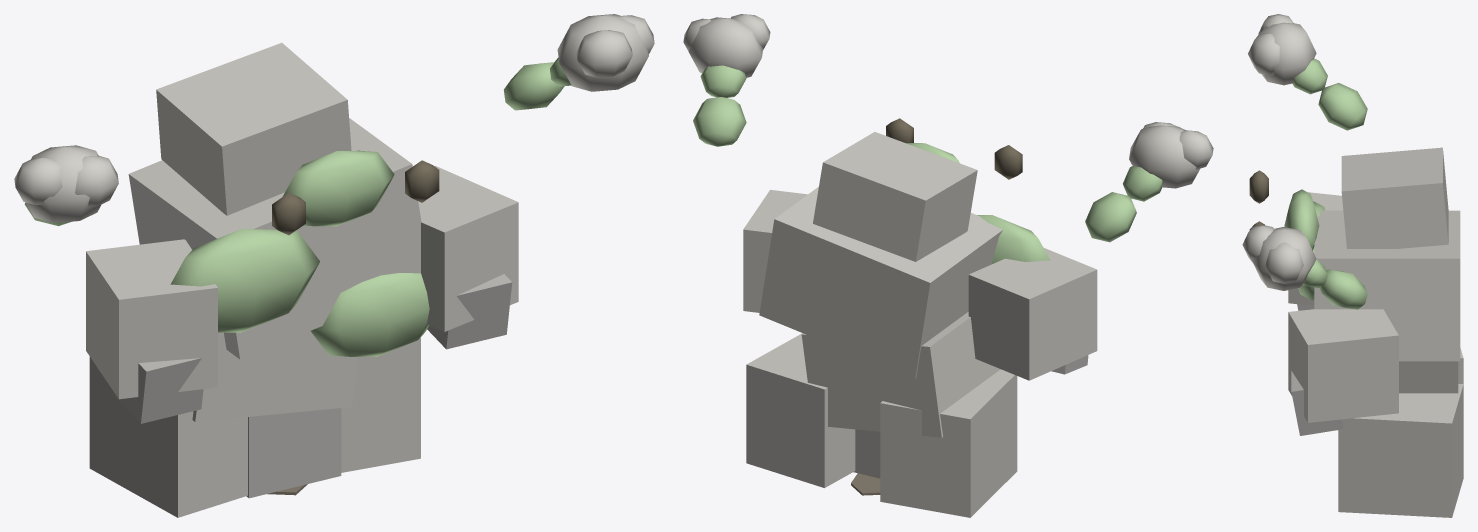
The model's file is stone_fist.fbx.
3 views of the same model, side by side, from view 1: azimuth 30°, elevation 25°; view 2: azimuth 150°, elevation 25°; view 3: azimuth 270°, elevation 25° (orthographic). The views are drawn at different scales.
Visible parts, largest first — view 1: PL_stone_fist; view 2: PL_stone_fist; view 3: PL_stone_fist.
Boxes of the visible parts, x1,y1,x2,y2 form: PL_stone_fist: [14, 14, 654, 517]; PL_stone_fist: [683, 14, 1213, 517]; PL_stone_fist: [1242, 14, 1463, 517].
Bounding box in the file's own units: 262 × 179 × 99.98.
